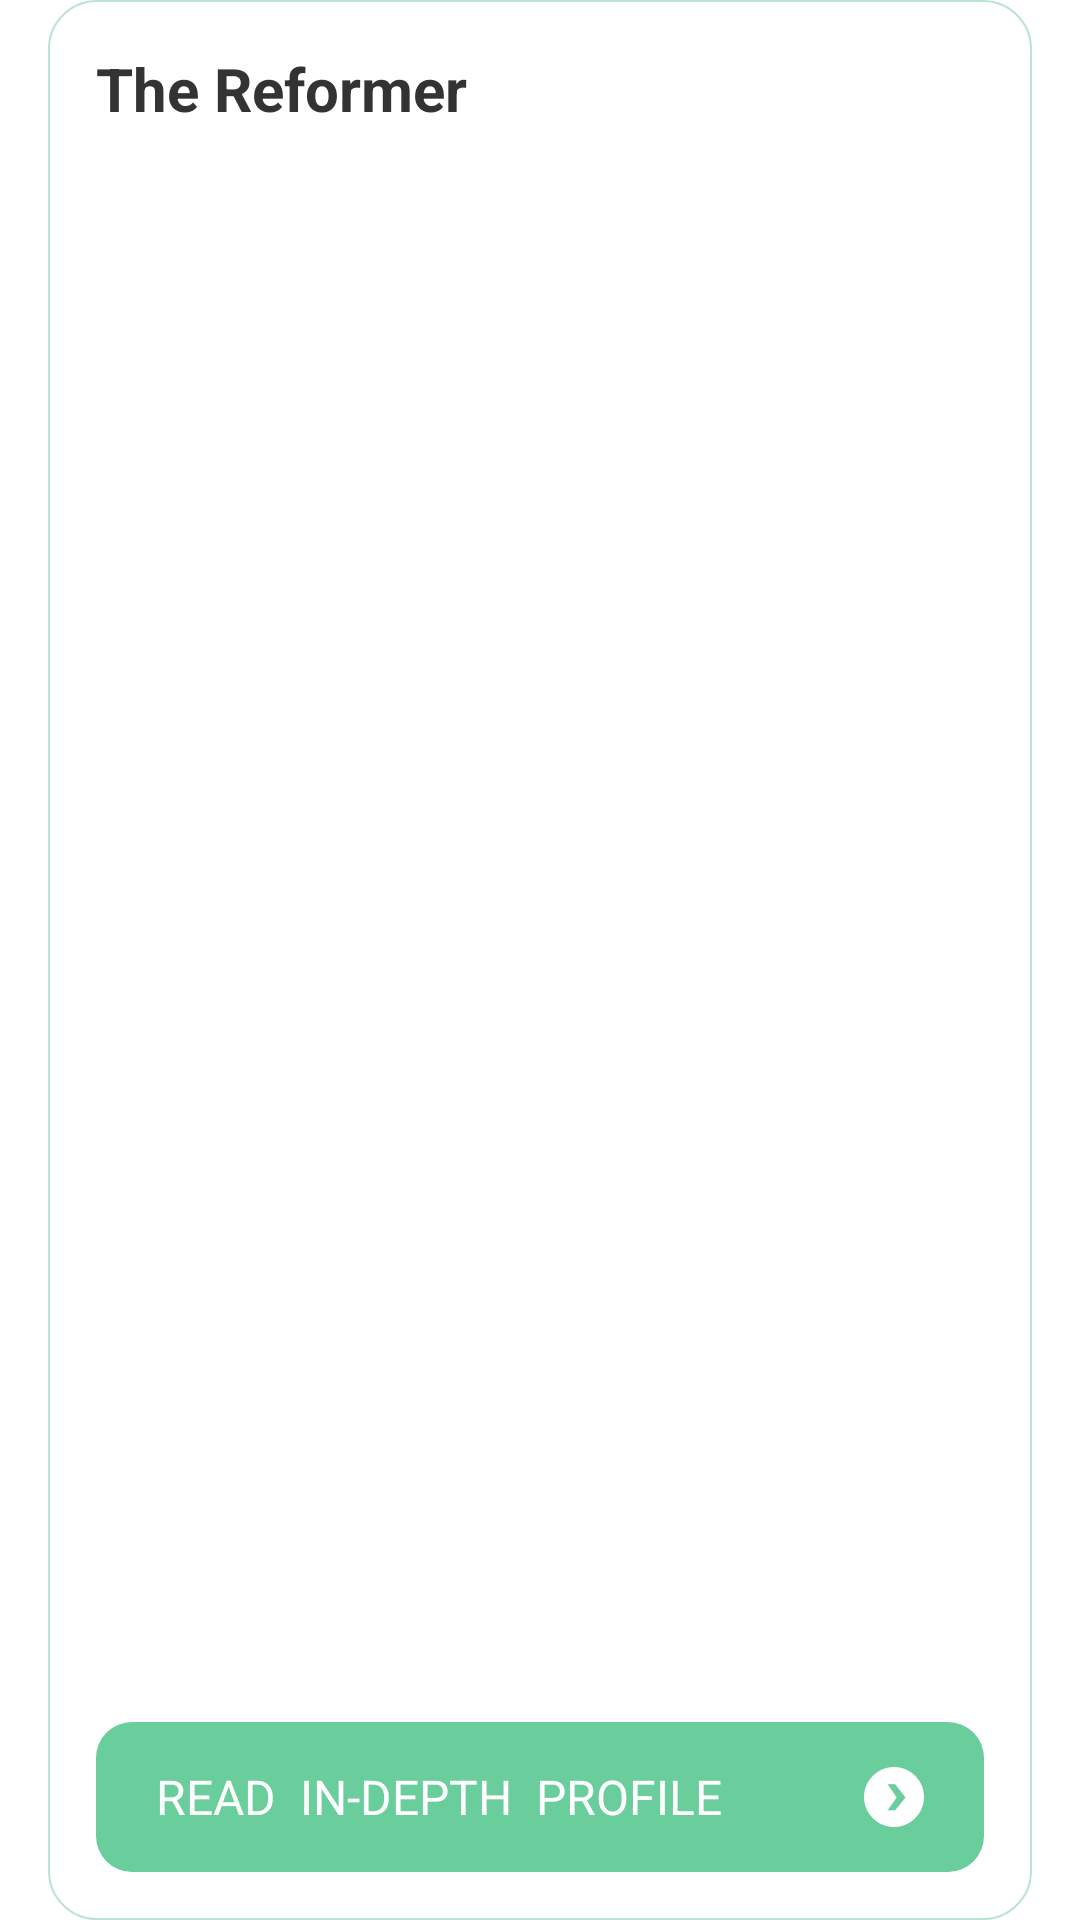

Where to tap for icons on this 1080x1920 app screen, as (x=x, y=y):
right: (x=894, y=1797)
